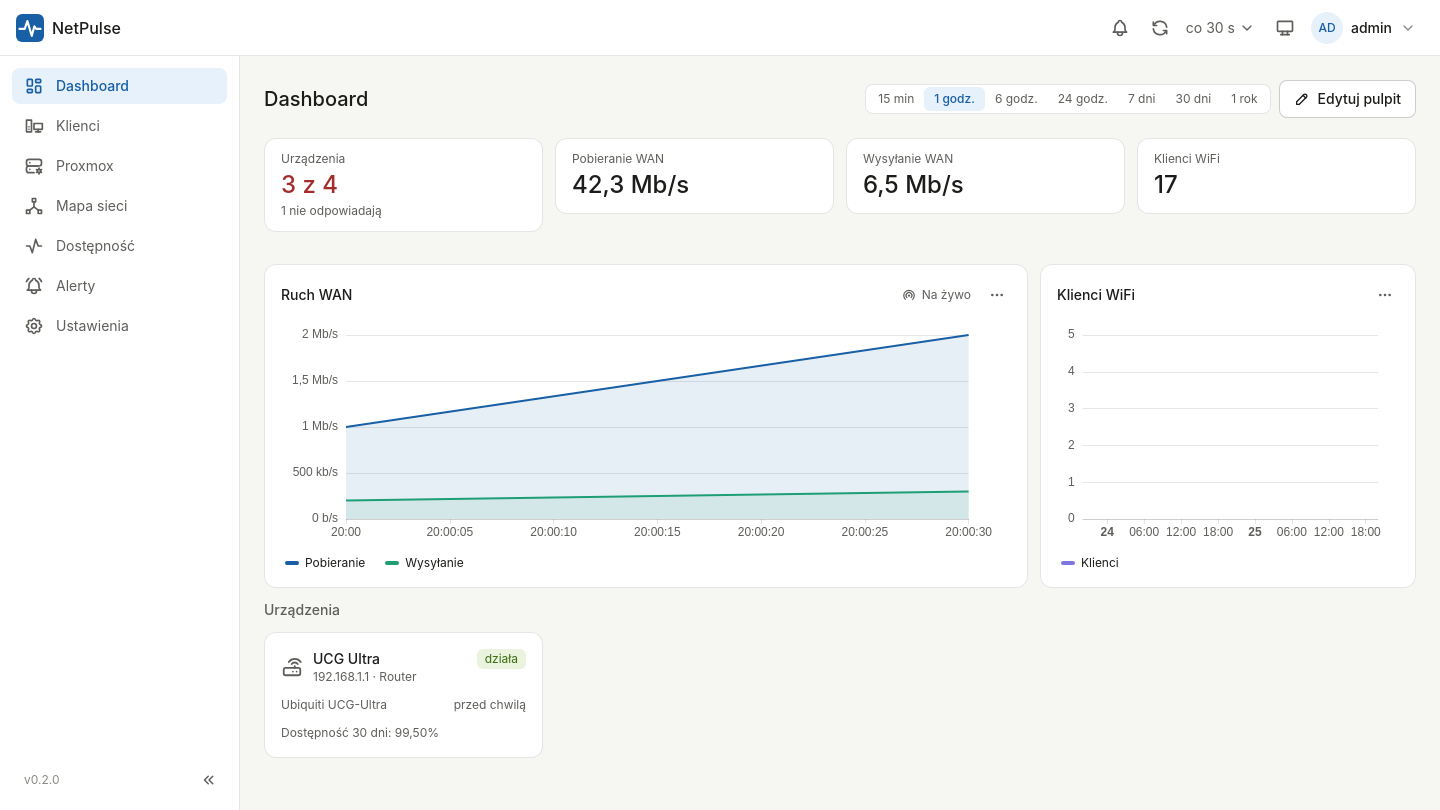
it: odświeżanie w pasku górnym › domyślnie co 30 s; wybór interwału zmienia etykietę i jest zapamiętany
Click the button with aria-label "Automatyczne odświeżanie: co 30 s". click: (1220,28)
box: [1178,10,1263,46]
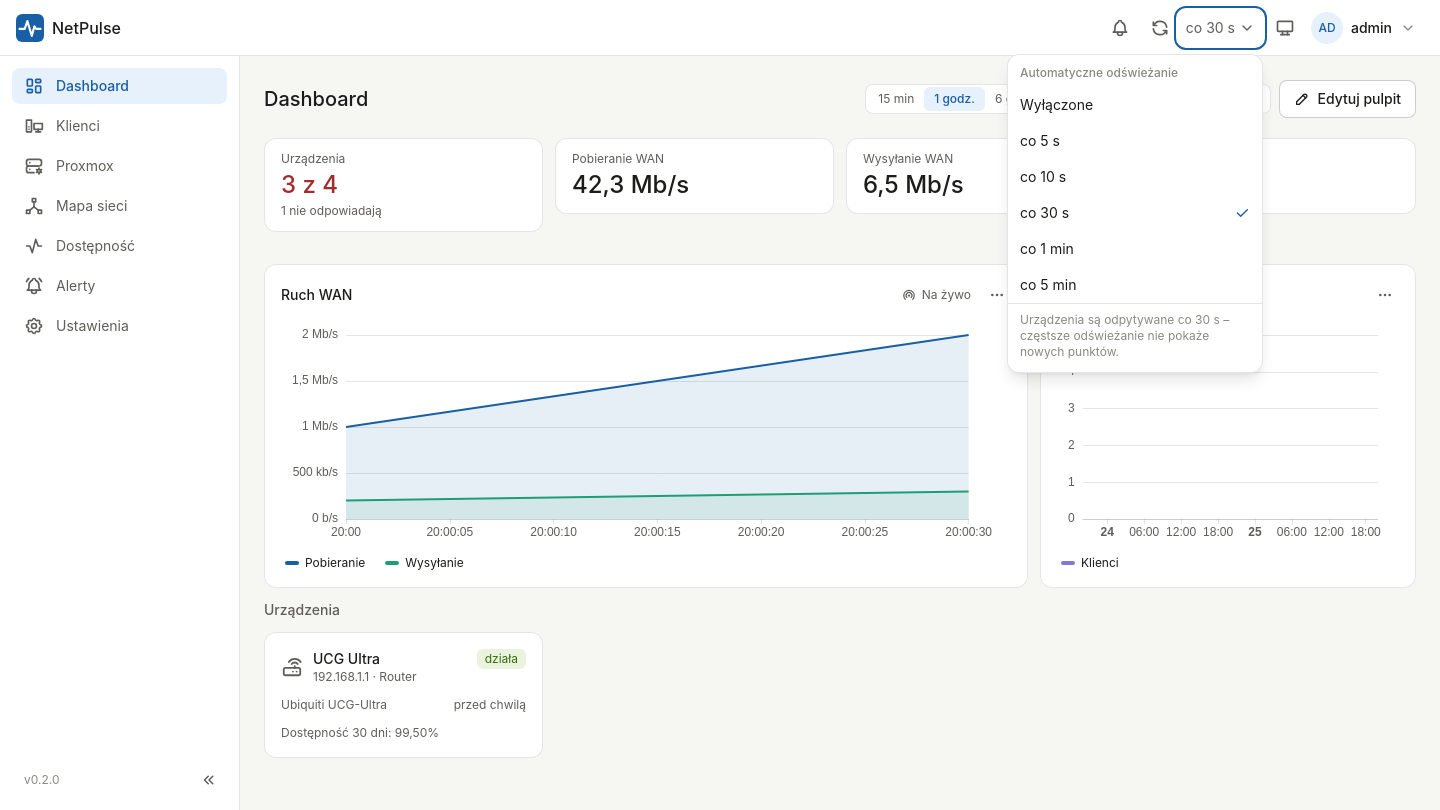
Click the menu item "co 1 min". click: (1135,248)
box: [1008,230,1262,266]
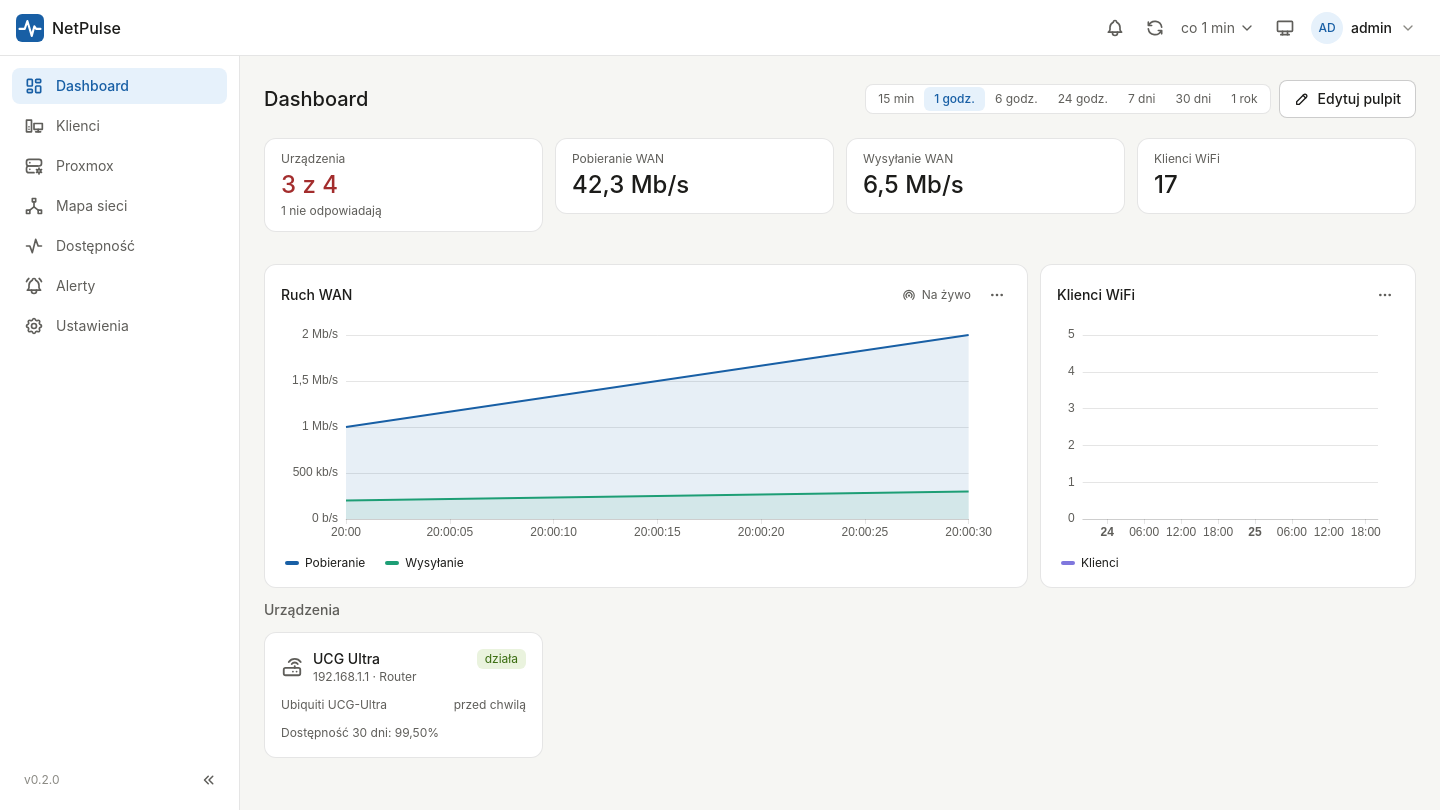
Check: the menu is gone
Check: the button with aria-label "Automatyczne odświeżanie: co 1 min" is shown, box [1173,10,1263,46]
